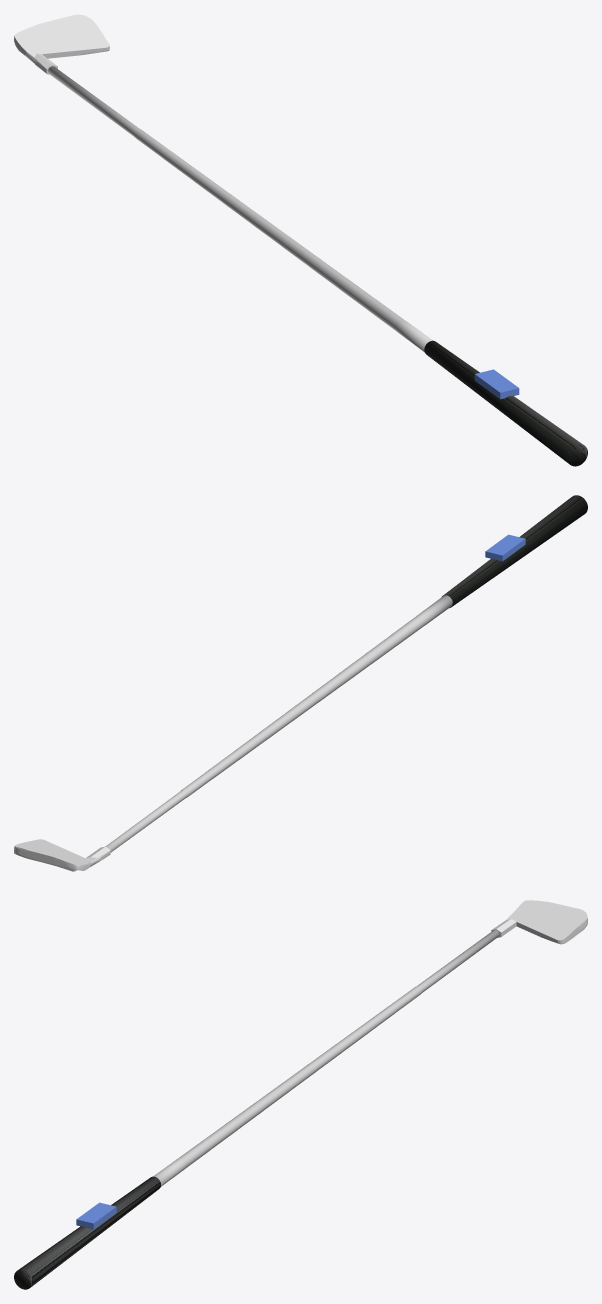
The model's file is golf_club.gltf.
3 renders of one model, top to bottom at view 1: azimuth 30°, elevation 25°; view 2: azimuth 150°, elevation 25°; view 3: azimuth 330°, elevation 25°, orthographic. The views are drawn at different scales.
Visible parts, largest first — view 1: Shaft, Grip, Clubhead, Cube; view 2: Shaft, Grip, Clubhead, Cube; view 3: Shaft, Grip, Clubhead, Cube.
Boxes of the visible parts, bbox=[...] form: Shaft: bbox=[48, 66, 432, 351]; Grip: bbox=[424, 340, 587, 466]; Clubhead: bbox=[14, 14, 109, 74]; Cube: bbox=[474, 369, 519, 399]; Shaft: bbox=[105, 595, 452, 852]; Grip: bbox=[442, 495, 587, 608]; Clubhead: bbox=[14, 839, 110, 871]; Cube: bbox=[485, 534, 525, 561]; Shaft: bbox=[153, 929, 499, 1186]; Grip: bbox=[14, 1176, 160, 1289]; Clubhead: bbox=[491, 900, 587, 944]; Cube: bbox=[76, 1202, 116, 1229].
Bounding box in the file's own units: 0.0818 × 0.0251 × 0.9756.
Materials: 4 (1 with a texture image).
